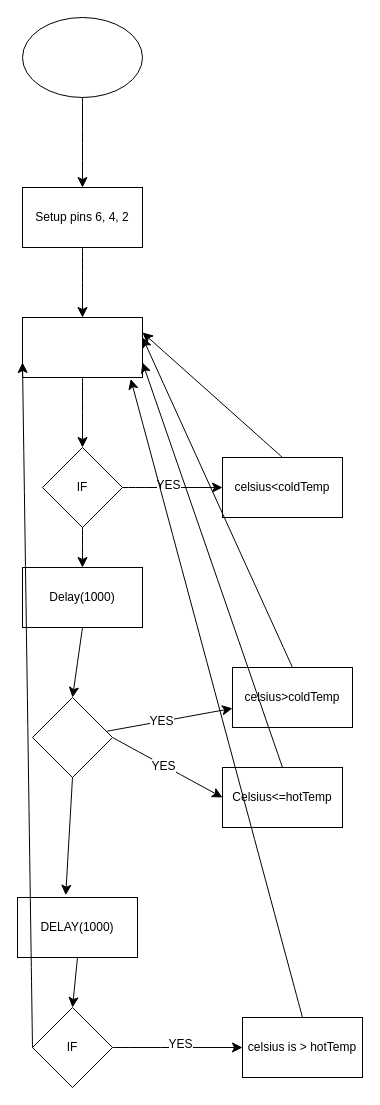
Image size: 380x1105. Some labels were removed from this diagram. Here are the shapes that lost their labels. From the top down, the box of each, then its label:
(22, 16, 142, 98): START
(22, 316, 142, 378): Turn all digitalwrite on and off
(32, 696, 112, 778): else IF
